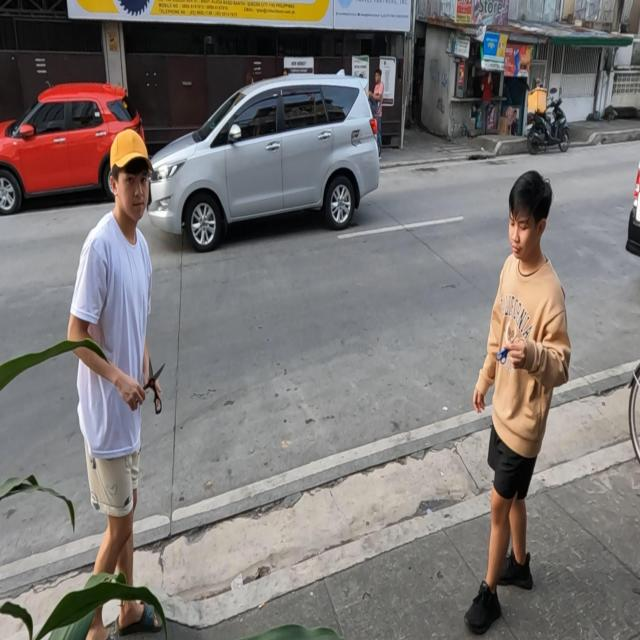scissor: (133, 358, 166, 416), (495, 333, 519, 365)
